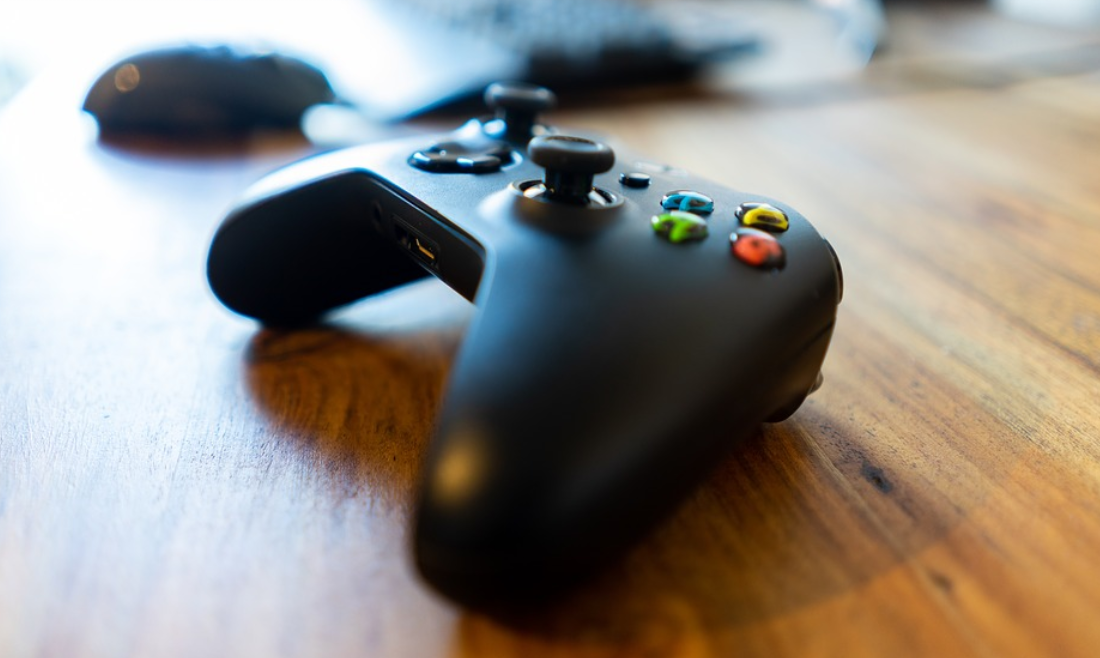gamingconsole: (214, 82, 840, 623)
